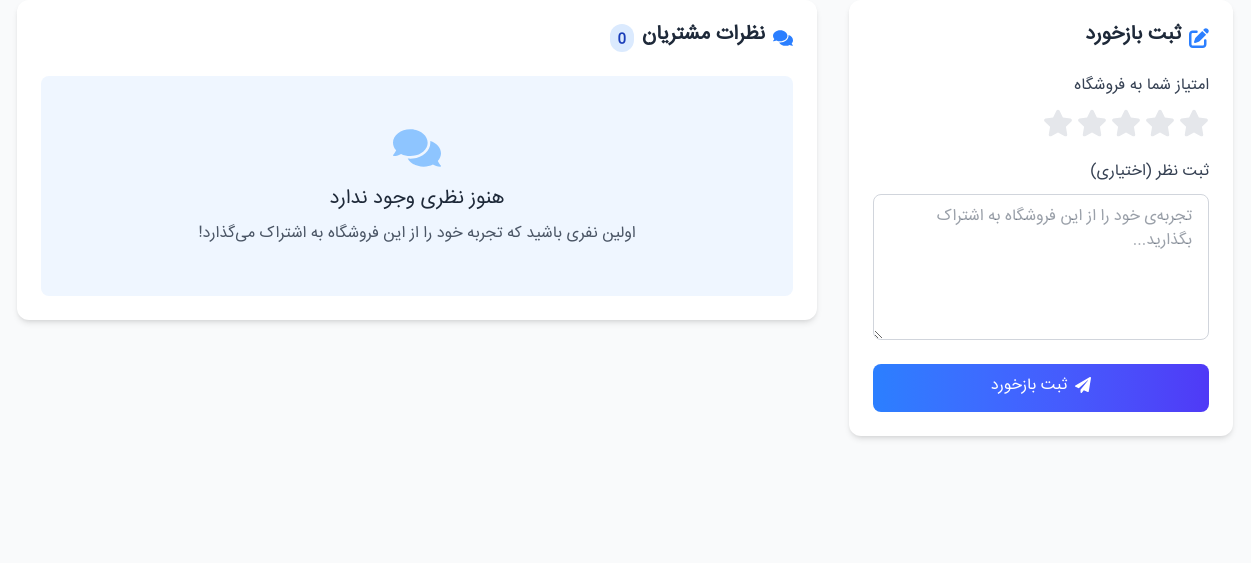
StoreComment and StoreFullComment › submits only rating and shows success message
This screenshot has width=1251, height=563.
Click the 4th button at coordinates (1160, 123), box left=1145, top=108, right=1175, bottom=138
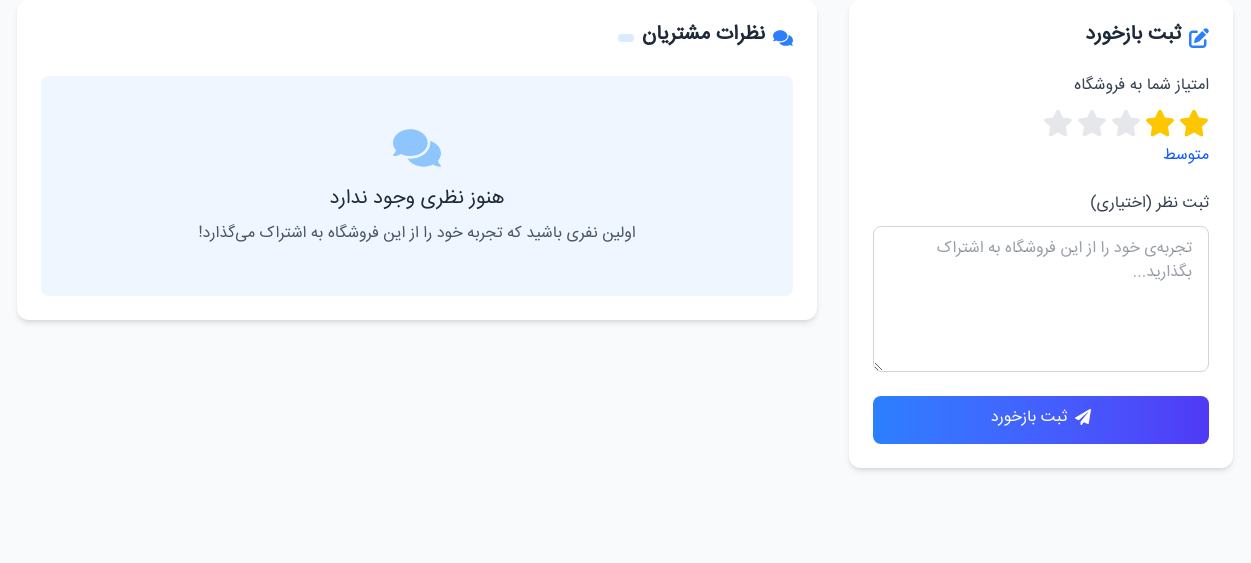
Click the button "ثبت بازخورد" at coordinates (1041, 420), box left=873, top=396, right=1209, bottom=444
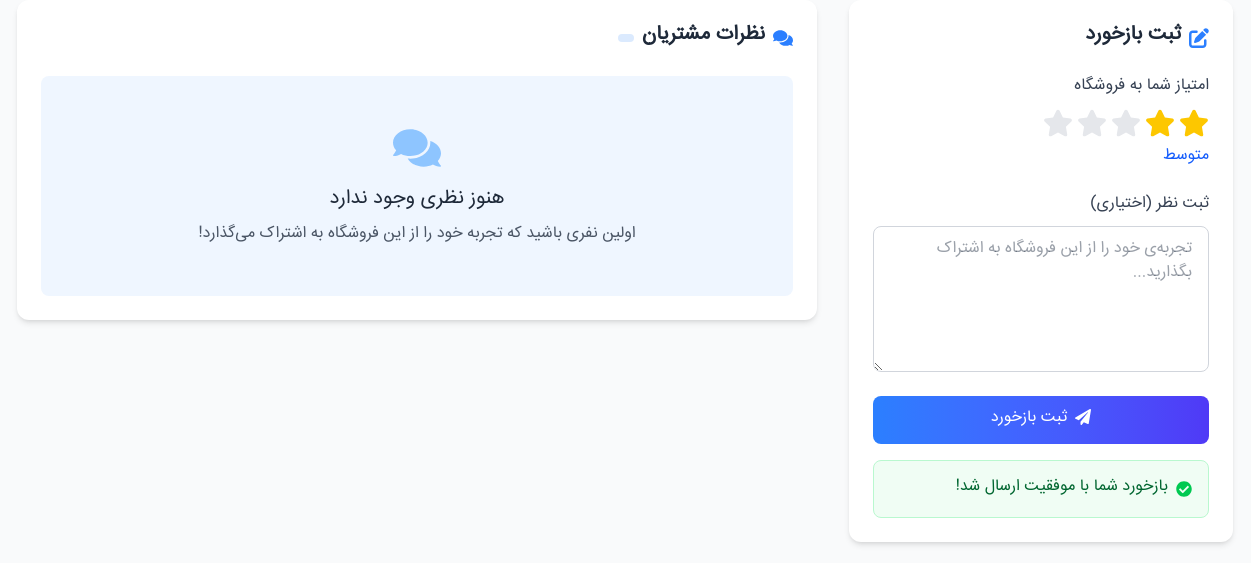
Expected: the text "بازخورد شما با موفقیت ارسال شد!" is shown, left=956, top=477, right=1168, bottom=501
